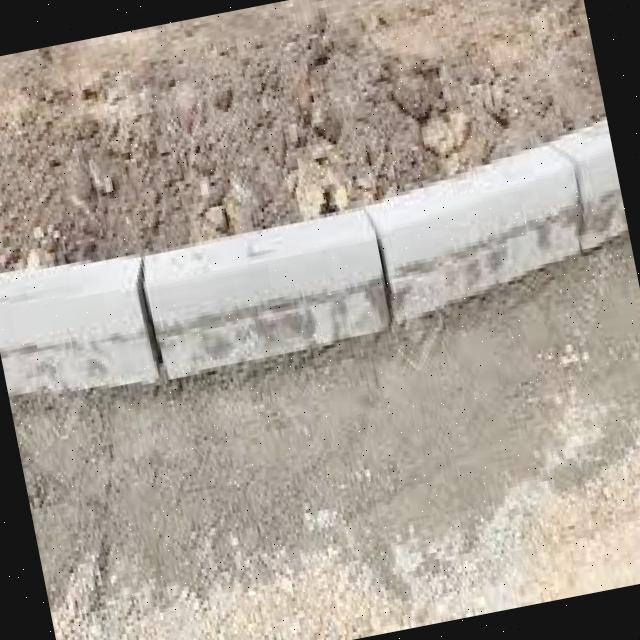curb: (1, 192, 472, 402), (448, 133, 636, 295)
